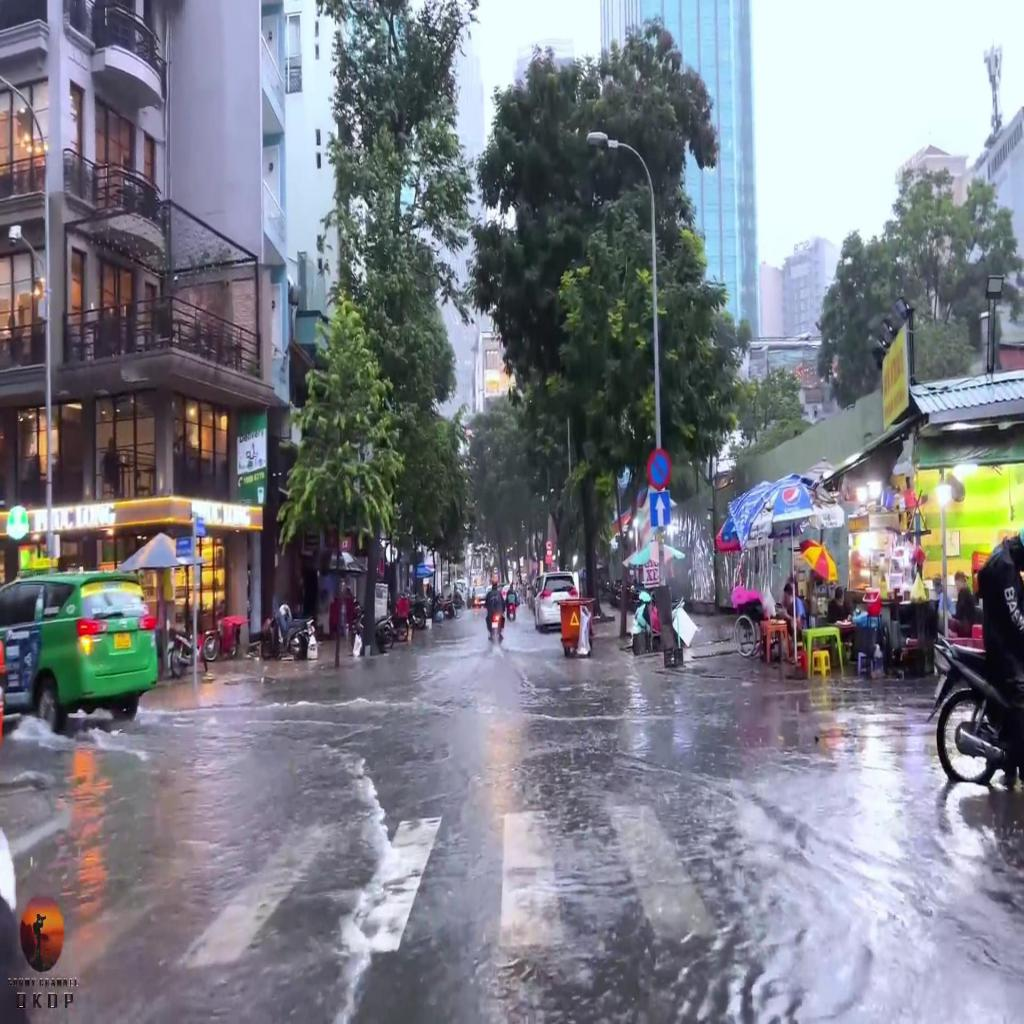cam_do_xe: (647, 447, 671, 488)
duong_mot_chieu: (650, 492, 672, 526)
